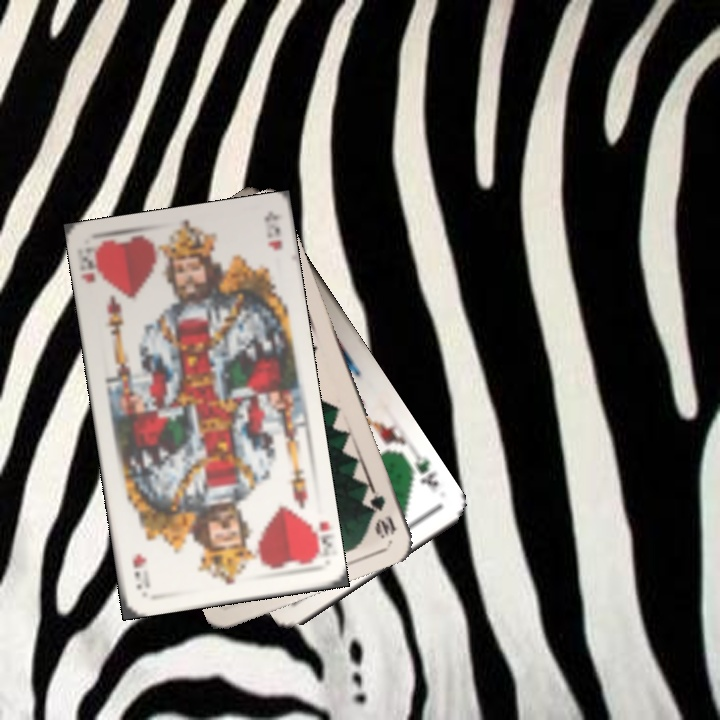G10: (361, 483, 399, 541)
GK: (410, 451, 441, 490)
HK: (303, 514, 332, 564), (78, 244, 106, 285)
